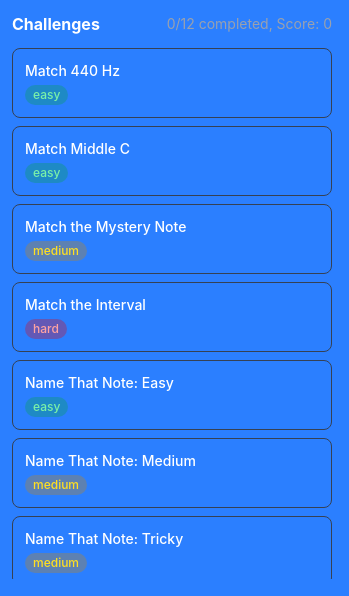
Scenario: ChallengePanel › shows active challenge view when a challenge is selected
Click the list item with test id "challenge-item-match-440" at [172, 83], box x1=12 y1=48 x2=332 y2=118
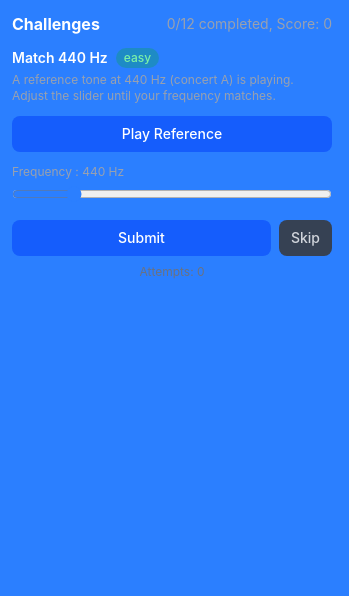
Expected: the heading with test id "challenge-title" reads "Match 440 Hz", x1=12 y1=49 x2=108 y2=66
Expected: the element with test id "active-challenge" is shown, x1=12 y1=48 x2=332 y2=280
